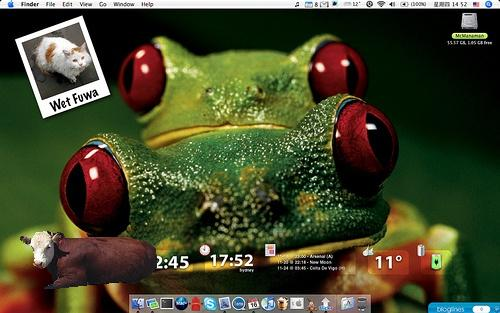tampered: (21, 232, 157, 289)
